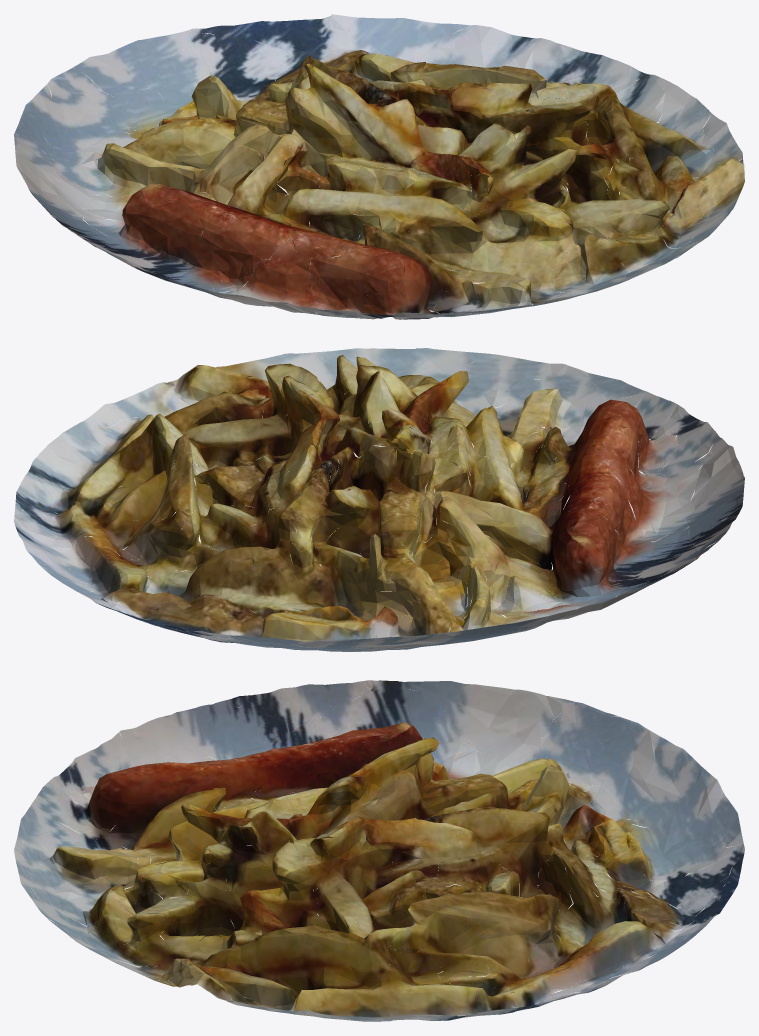
File: salchipapa-1.glb
3 renders of one model, top to bottom at view 1: azimuth 30°, elevation 25°; view 2: azimuth 150°, elevation 25°; view 3: azimuth 270°, elevation 25°, orthographic.
Parts seen in each view (by area): view 1: Mesh_0; view 2: Mesh_0; view 3: Mesh_0.
Part boxes in pixels (left/top/right/bottom): Mesh_0: left=14, top=14, right=744, bottom=319; Mesh_0: left=14, top=348, right=744, bottom=651; Mesh_0: left=14, top=680, right=744, bottom=1021.
Bounding box in the file's own units: 29.44 × 6.86 × 29.44.
2 materials, 2 textured.
